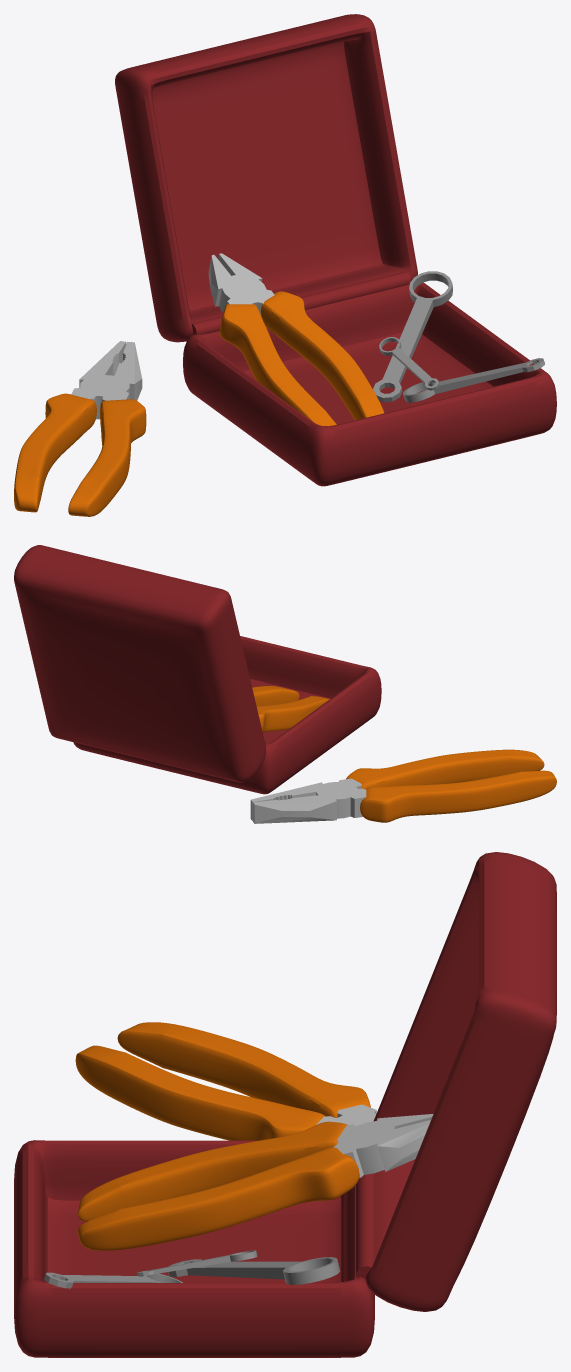
Rendered from masa_objeleri.fbx.
3 views of the same model, one above another, from view 1: azimuth 30°, elevation 25°; view 2: azimuth 150°, elevation 25°; view 3: azimuth 270°, elevation 25° (orthographic). The views are drawn at different scales.
Parts seen in each view (by area): view 1: Cylinder.021, Plane.017, Plane.016, Cylinder.023, Cylinder.024, Cylinder.025; view 2: Cylinder.021, Plane.016, Plane.017; view 3: Cylinder.021, Plane.017, Plane.016, Cylinder.023, Cylinder.024, Cylinder.025.
Boxes of the visible parts, bbox=[...] form: Cylinder.021: bbox=[115, 14, 556, 486]; Plane.017: bbox=[208, 253, 384, 426]; Plane.016: bbox=[14, 341, 146, 516]; Cylinder.023: bbox=[373, 271, 452, 402]; Cylinder.024: bbox=[403, 358, 544, 402]; Cylinder.025: bbox=[379, 337, 439, 390]; Cylinder.021: bbox=[14, 545, 381, 794]; Plane.016: bbox=[250, 749, 556, 823]; Plane.017: bbox=[252, 686, 329, 732]; Cylinder.021: bbox=[14, 852, 556, 1357]; Plane.017: bbox=[78, 1114, 433, 1250]; Plane.016: bbox=[75, 1022, 376, 1140]; Cylinder.023: bbox=[168, 1257, 340, 1284]; Cylinder.024: bbox=[44, 1272, 182, 1288]; Cylinder.025: bbox=[136, 1250, 257, 1276].
Size of the model in its own units: 92.03 by 51.51 by 67.14.
